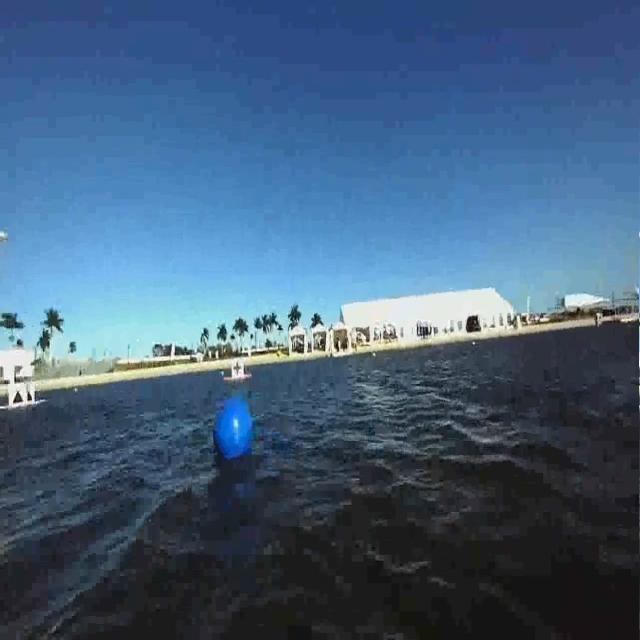blue-buoy: (215, 394, 257, 481)
